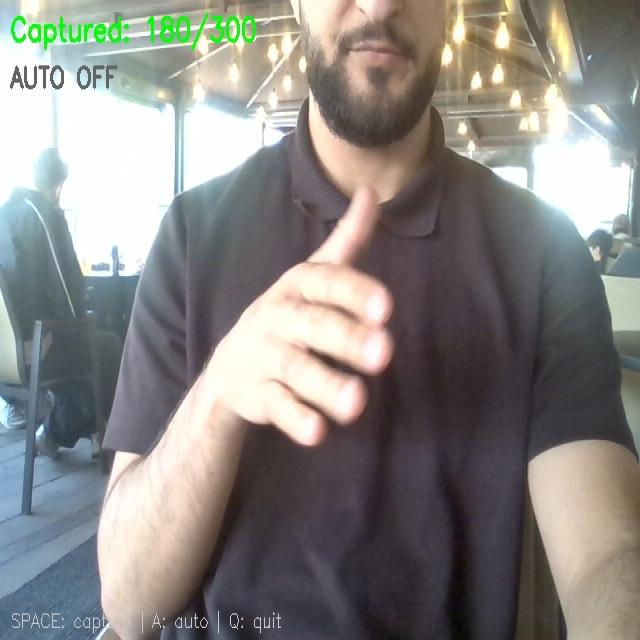Hand: (208, 188, 392, 445)
